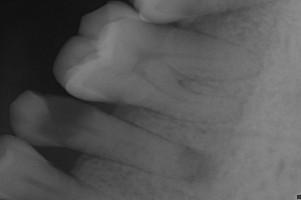Furcation Involvement: (179, 146, 212, 183)
